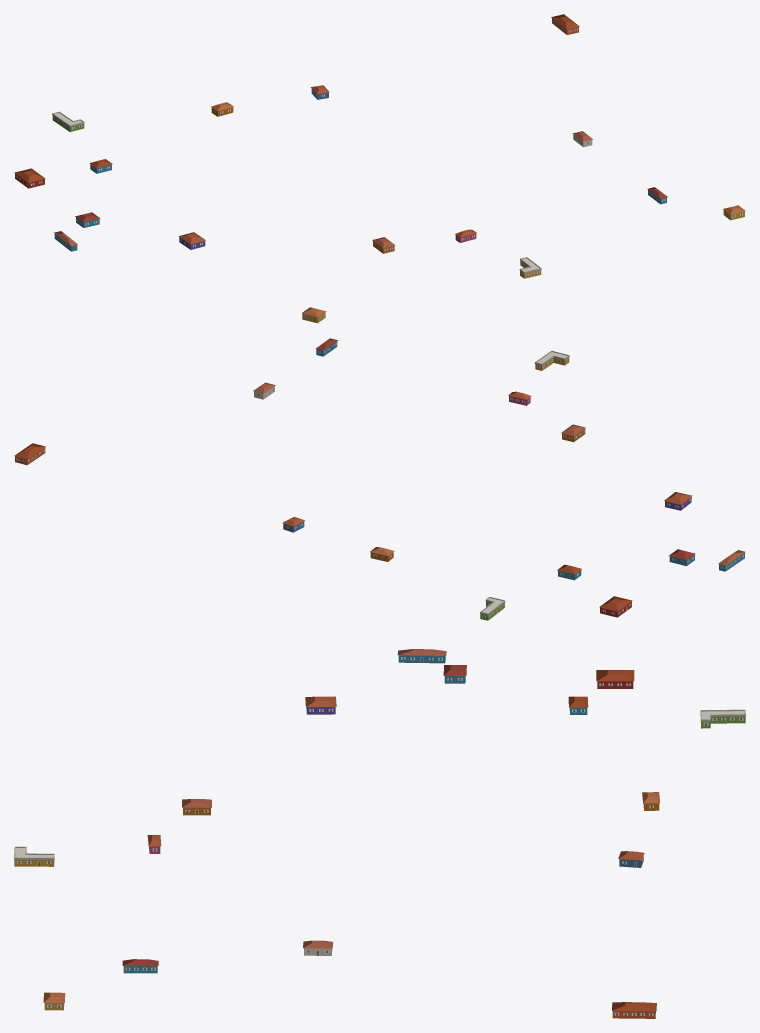
Rendered from msb_sannicolas_20_23.glb.
The picture shows the model from 3 angles, top to bottom: view 1: azimuth 30°, elevation 25°; view 2: azimuth 150°, elevation 25°; view 3: azimuth 270°, elevation 25°; orthographic projection. The views are drawn at different scales.
Parts seen in each view (by area): view 1: msb_sannicolas_20_23_lod0; view 2: msb_sannicolas_20_23_lod0; view 3: msb_sannicolas_20_23_lod0.
Part boxes in pixels (x1,y1,x2,y2): msb_sannicolas_20_23_lod0: (14, 14, 745, 278); msb_sannicolas_20_23_lod0: (14, 307, 745, 620); msb_sannicolas_20_23_lod0: (14, 649, 745, 1018).
Size of what is drawn, in the model's own units: 366 by 15.01 by 295.
3 materials, 1 textured.
